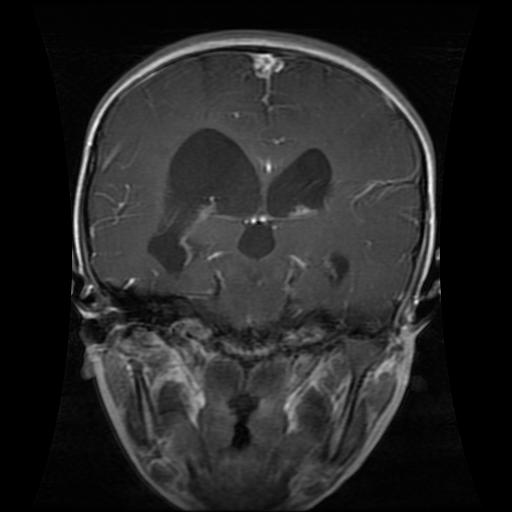Gliomia_tumour: (145, 124, 259, 279)
